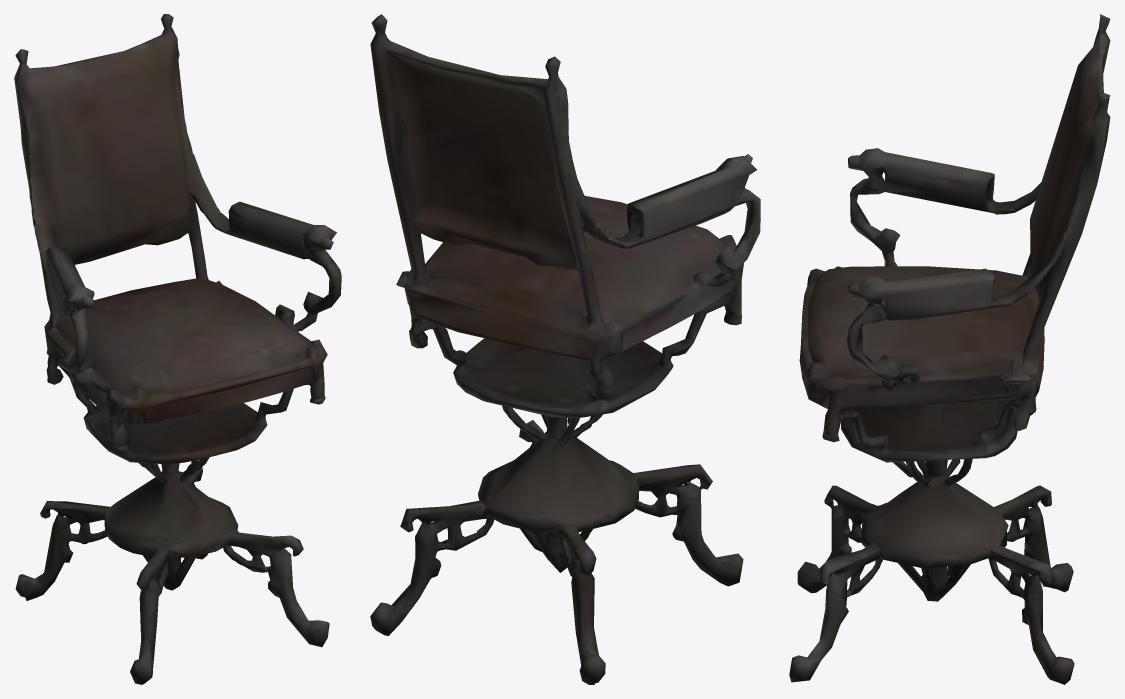
File: ornate-iron-examination-chair-v003.glb
The picture shows the model from 3 angles, left to right: view 1: azimuth 30°, elevation 25°; view 2: azimuth 150°, elevation 25°; view 3: azimuth 270°, elevation 25°; orthographic projection. The views are drawn at different scales.
Parts seen in each view (by area): view 1: ornate-iron-examination-chair; view 2: ornate-iron-examination-chair; view 3: ornate-iron-examination-chair.
Boxes of the visible parts, x1,y1,x2,y2 form: ornate-iron-examination-chair: (14, 14, 341, 684); ornate-iron-examination-chair: (370, 14, 760, 684); ornate-iron-examination-chair: (789, 14, 1110, 684).
Size of the model in its own units: 0.6043 by 1.15 by 0.5704.
Materials: 1 (1 with a texture image).
